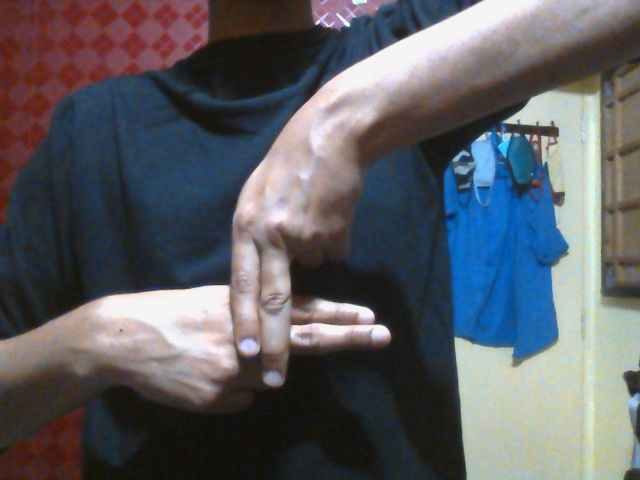F: (97, 132, 407, 417)
